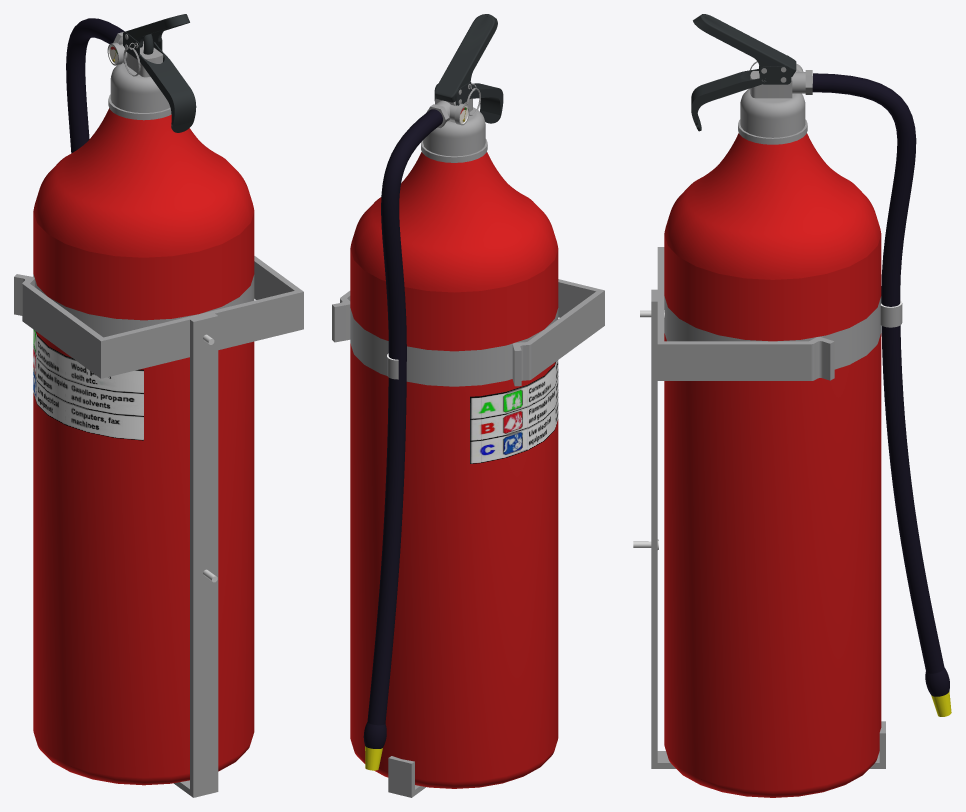
File: Fire_extinguisher.dae
The picture shows the model from 3 angles, left to right: view 1: azimuth 30°, elevation 25°; view 2: azimuth 150°, elevation 25°; view 3: azimuth 270°, elevation 25°; orthographic projection. The views are drawn at different scales.
Visible parts, largest first — view 1: FIRE_EXTINGUISHER_A_B_E__1 (×6), group_0, Group_18, Group_24, group_11, group_10, group_6; view 2: FIRE_EXTINGUISHER_A_B_E__1 (×6), group_11, Group_18, group_6, group_0, group_10, Group_24; view 3: FIRE_EXTINGUISHER_A_B_E__1 (×5), group_11, Group_24, group_0, group_6, group_10.
Part boxes in pixels (<box>): FIRE_EXTINGUISHER_A_B_E__1 (×6): <box>33,37,254,785</box>; group_0: <box>174,313,218,797</box>; Group_18: <box>14,274,201,378</box>; Group_24: <box>199,256,303,349</box>; group_11: <box>66,18,124,153</box>; group_10: <box>139,42,196,132</box>; group_6: <box>123,14,189,47</box>; FIRE_EXTINGUISHER_A_B_E__1 (×6): <box>350,98,558,788</box>; group_11: <box>363,109,442,748</box>; Group_18: <box>512,279,604,386</box>; group_6: <box>434,14,497,102</box>; group_0: <box>388,756,426,797</box>; group_10: <box>470,83,503,123</box>; Group_24: <box>332,291,350,342</box>; FIRE_EXTINGUISHER_A_B_E__1 (×5): <box>664,69,881,797</box>; group_11: <box>812,73,949,696</box>; Group_24: <box>657,295,834,380</box>; group_0: <box>651,289,885,768</box>; group_6: <box>693,14,796,76</box>; group_10: <box>691,69,761,131</box>.
Bounding box in the file's own units: 5.7 × 7.88 × 20.42.
Materials: 19 (8 with a texture image).
